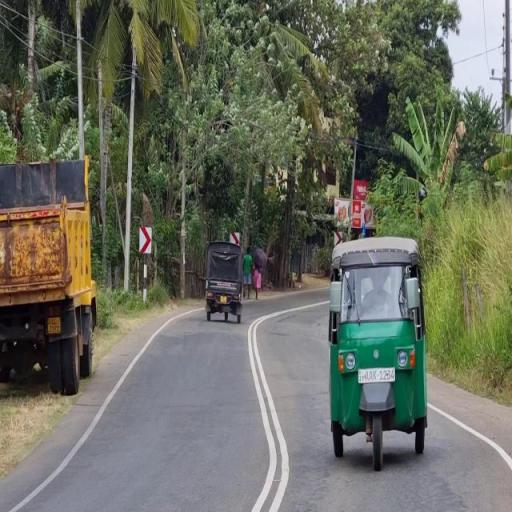double_white_line: (243, 309, 289, 510), (429, 409, 512, 472)
